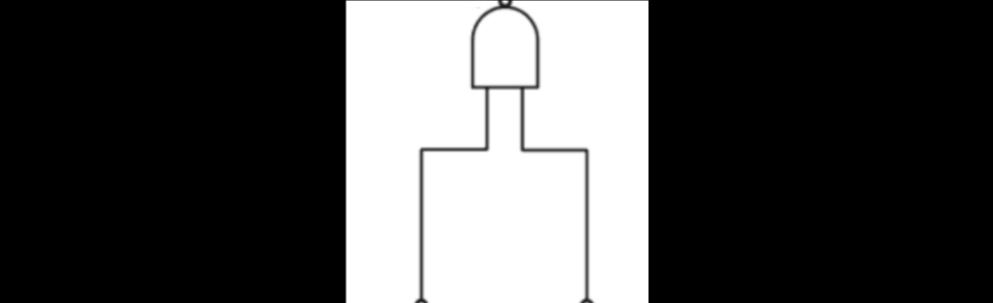nand: (464, 0, 542, 93)
